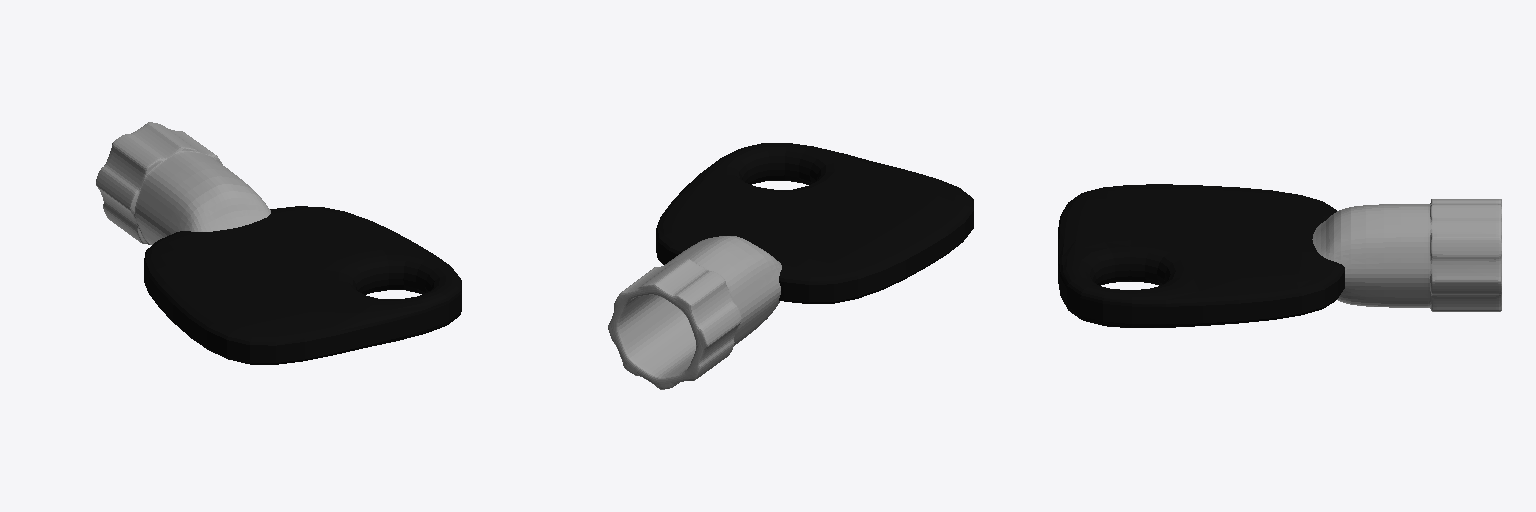
Rendered from Key_CableLock.obj.
3 renders of one model, left to right at view 1: azimuth 30°, elevation 25°; view 2: azimuth 150°, elevation 25°; view 3: azimuth 270°, elevation 25°, orthographic.
Visible parts, largest first — view 1: Key_Laptop_Circle.011; view 2: Key_Laptop_Circle.011; view 3: Key_Laptop_Circle.011.
Boxes of the visible parts, <box> form: Key_Laptop_Circle.011: <box>96,122,461,364</box>; Key_Laptop_Circle.011: <box>608,143,973,389</box>; Key_Laptop_Circle.011: <box>1058,184,1501,327</box>.
Bounding box in the file's own units: 1.27 × 0.5145 × 1.98.